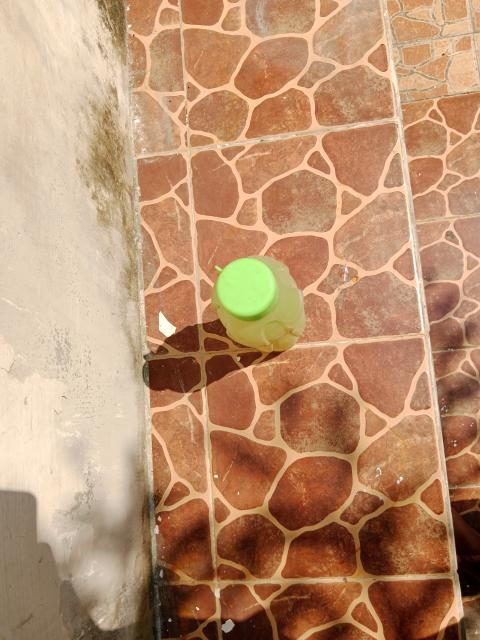botol: (209, 252, 308, 355)
